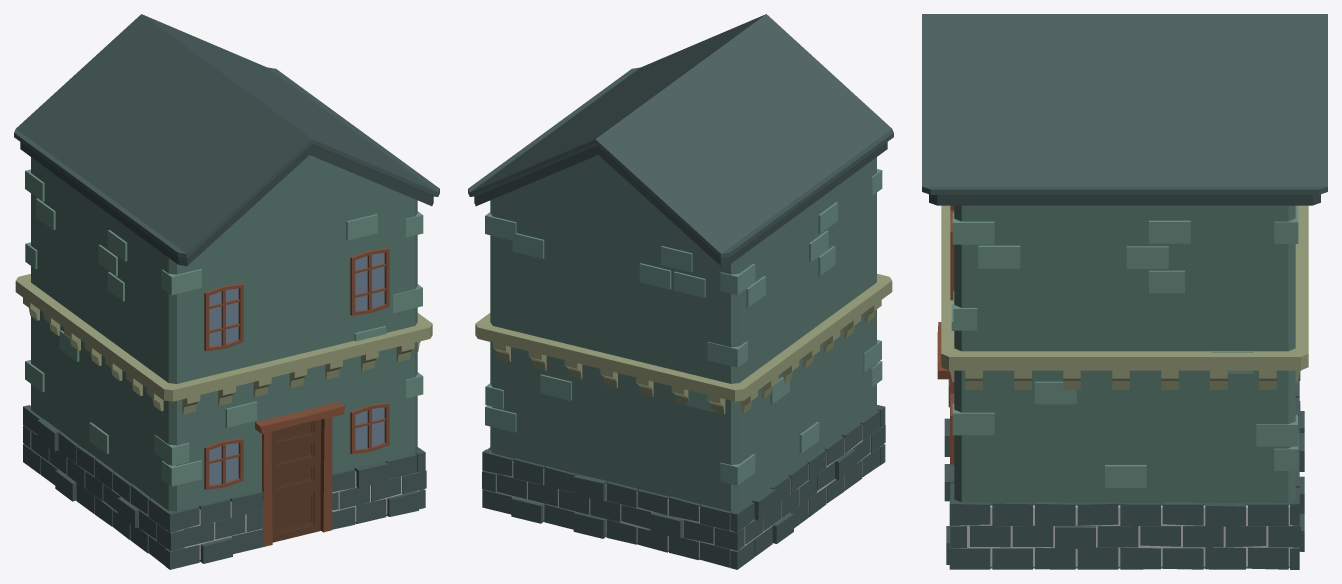
Rendered from quat_2story_gableroof.glb.
3 views of the same model, side by side, from view 1: azimuth 30°, elevation 25°; view 2: azimuth 150°, elevation 25°; view 3: azimuth 270°, elevation 25° (orthographic). The views are drawn at different scales.
Parts seen in each view (by area): view 1: 2Story_GableRoof_Cube.161; view 2: 2Story_GableRoof_Cube.161; view 3: 2Story_GableRoof_Cube.161.
Boxes of the visible parts, left/top/right/bottom form: 2Story_GableRoof_Cube.161: left=14, top=14, right=439, bottom=569; 2Story_GableRoof_Cube.161: left=468, top=14, right=893, bottom=569; 2Story_GableRoof_Cube.161: left=922, top=14, right=1327, bottom=569.
Size of the model in its own units: 2.16 by 3.13 by 2.38.
Materials: 1 (1 with a texture image).
